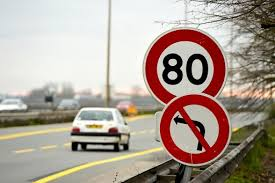Speed_limit_80km: (144, 27, 227, 107)
